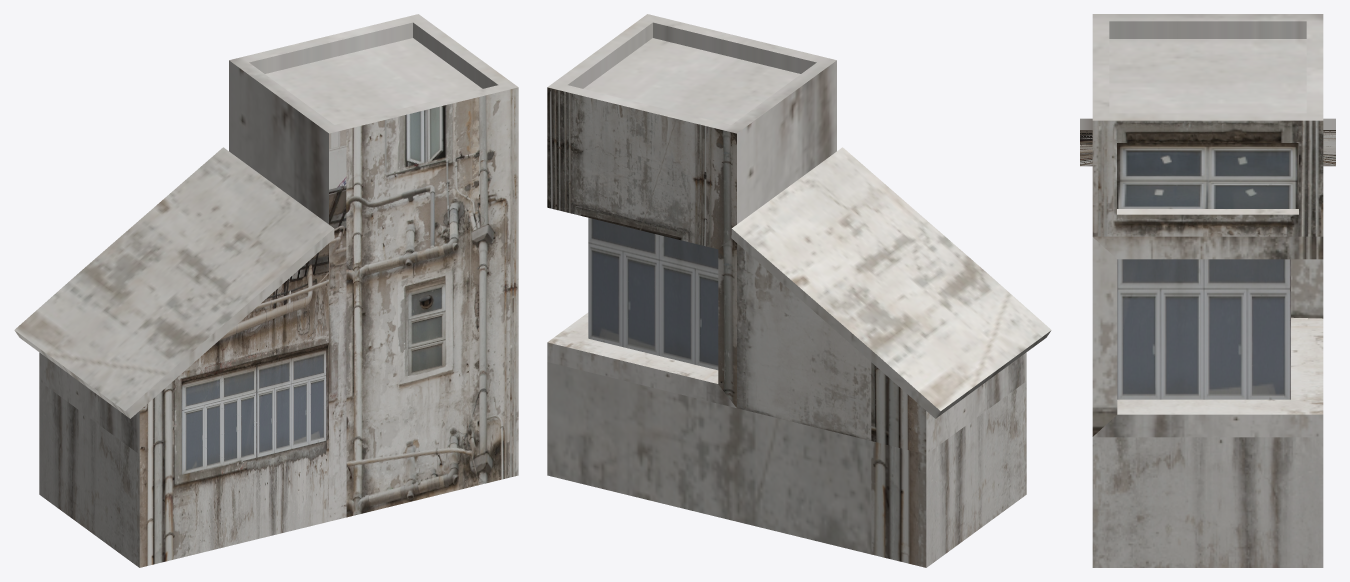
The model's file is PS1AssetsBuilding1.fbx.
3 views of the same model, side by side, from view 1: azimuth 30°, elevation 25°; view 2: azimuth 150°, elevation 25°; view 3: azimuth 270°, elevation 25° (orthographic). The views are drawn at different scales.
Visible parts, largest first — view 1: Cube; view 2: Cube; view 3: Cube.
Part boxes in pixels (bbox=[...]): Cube: bbox=[14, 14, 518, 567]; Cube: bbox=[547, 14, 1051, 567]; Cube: bbox=[1080, 14, 1335, 567].
Bounding box in the file's own units: 460 × 427 × 222.
